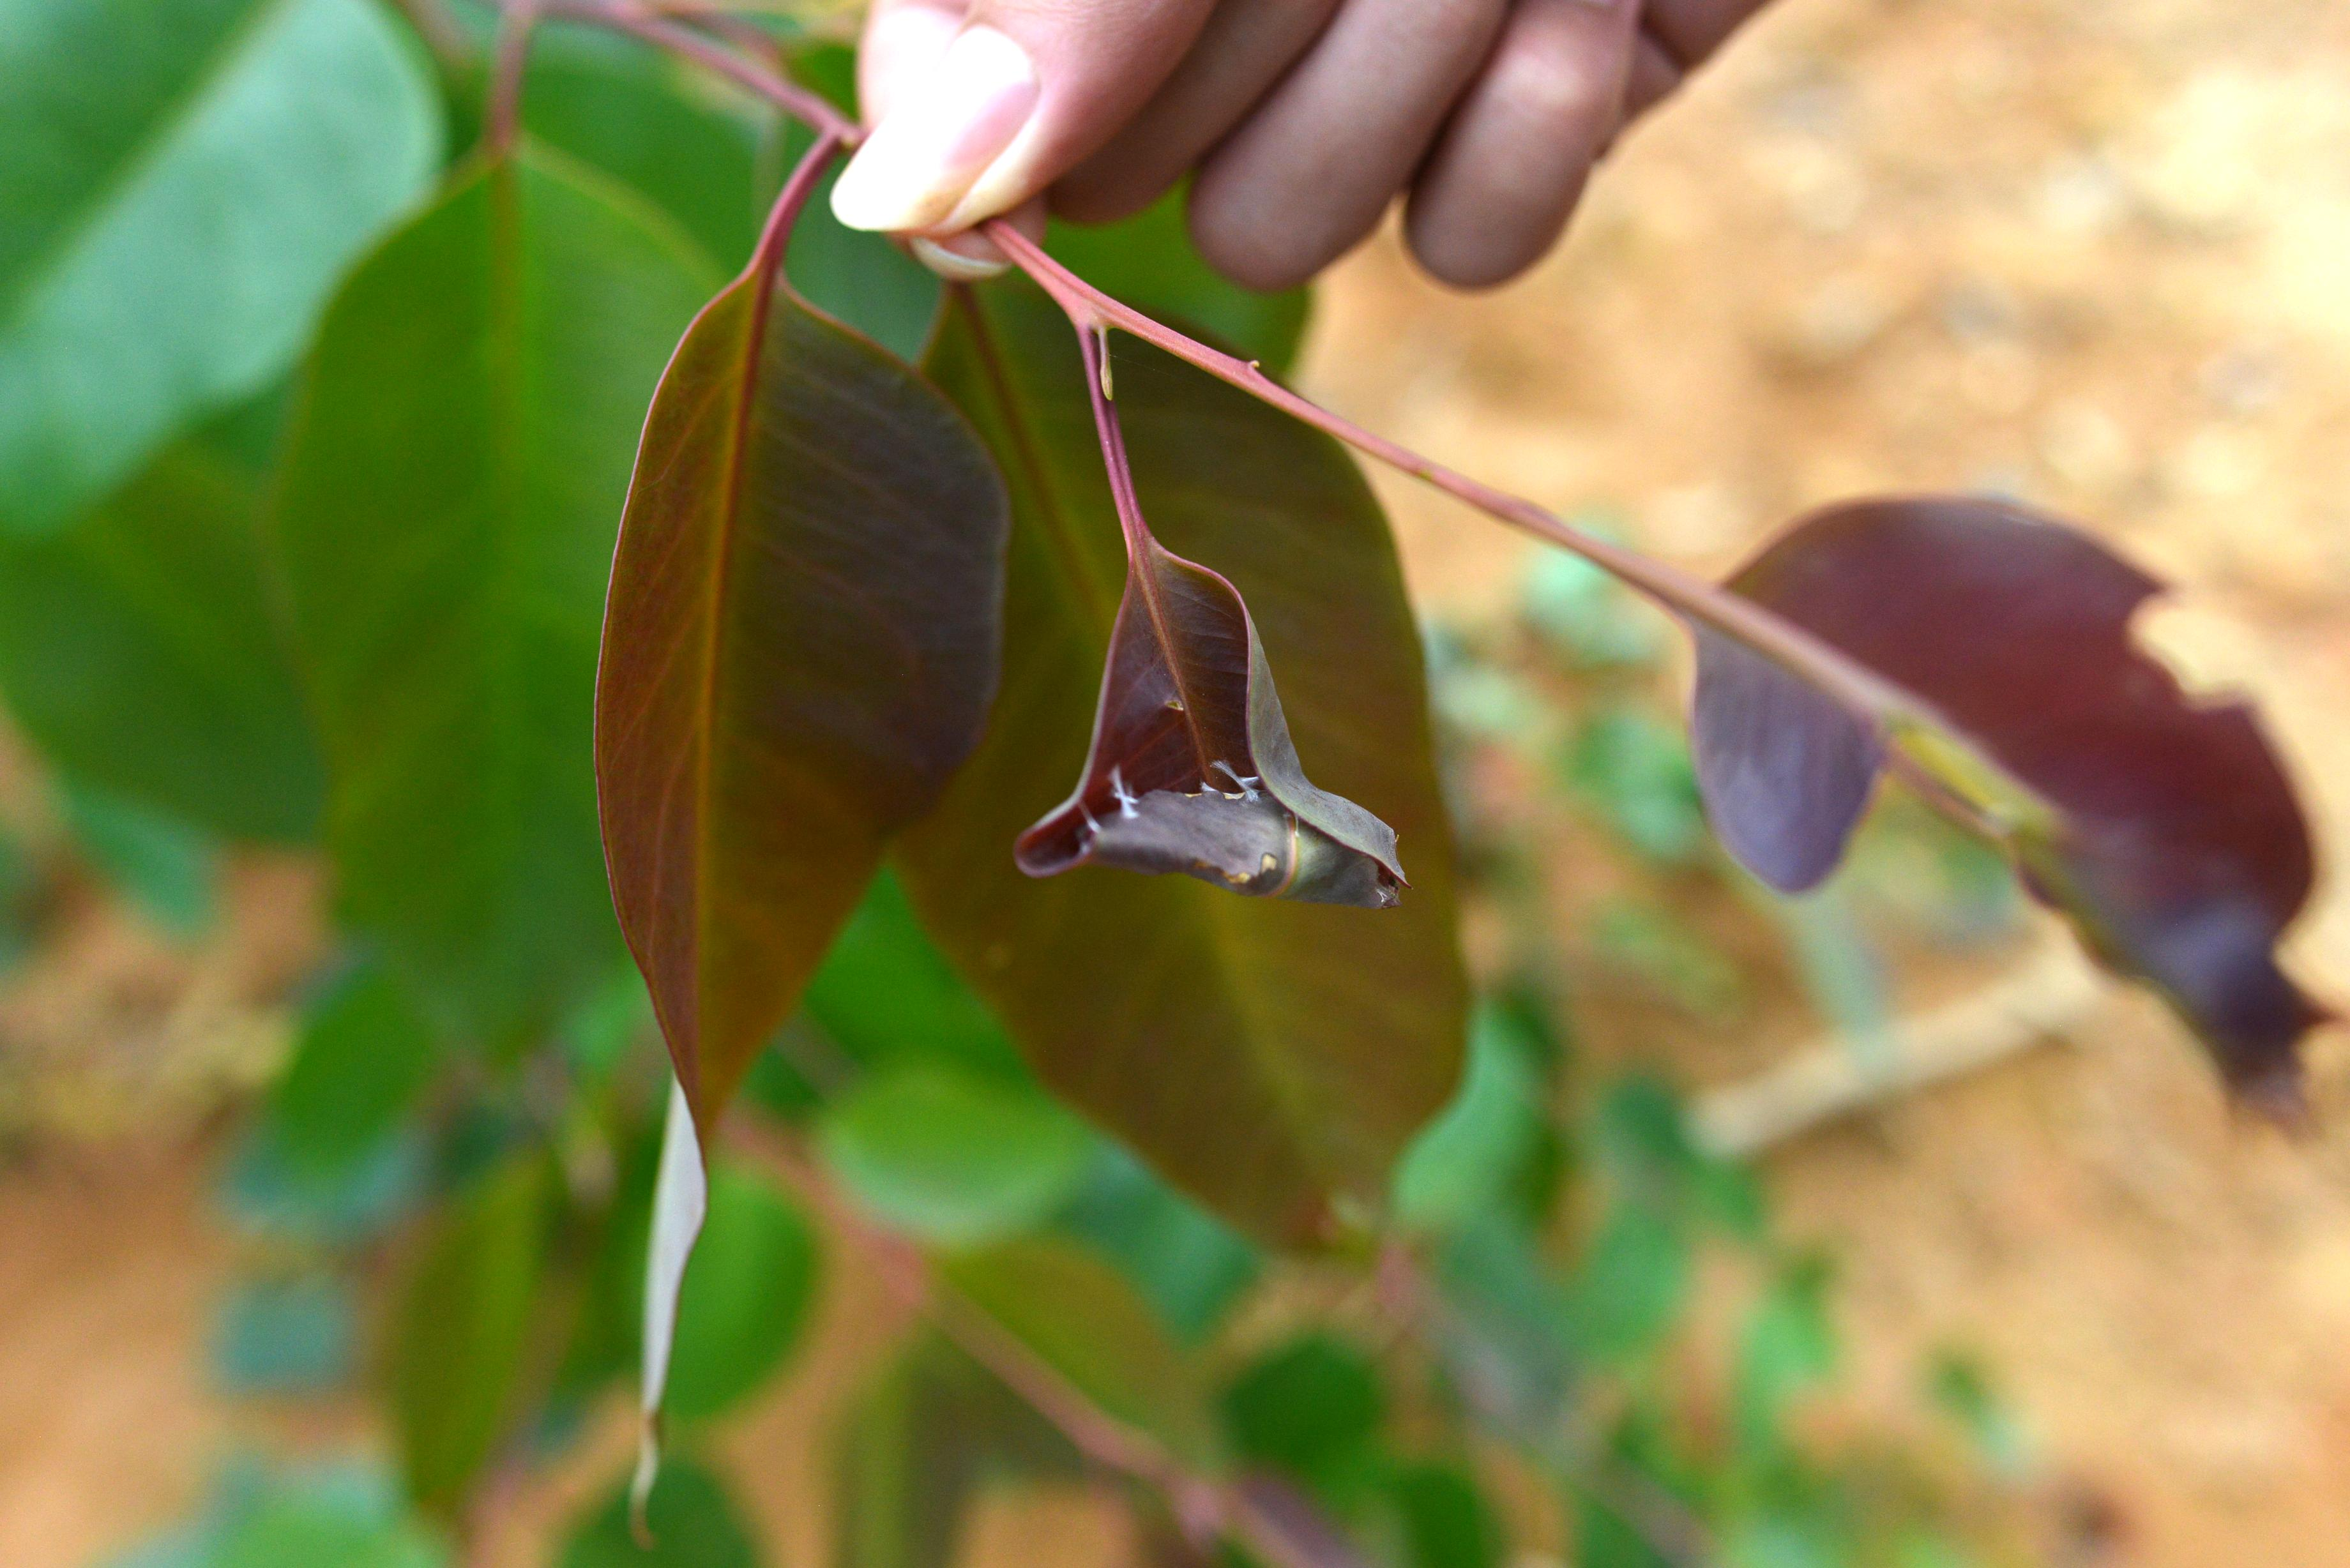Leaf Roller - Leaf: (1692, 486, 2336, 1137), (994, 507, 1447, 926)
